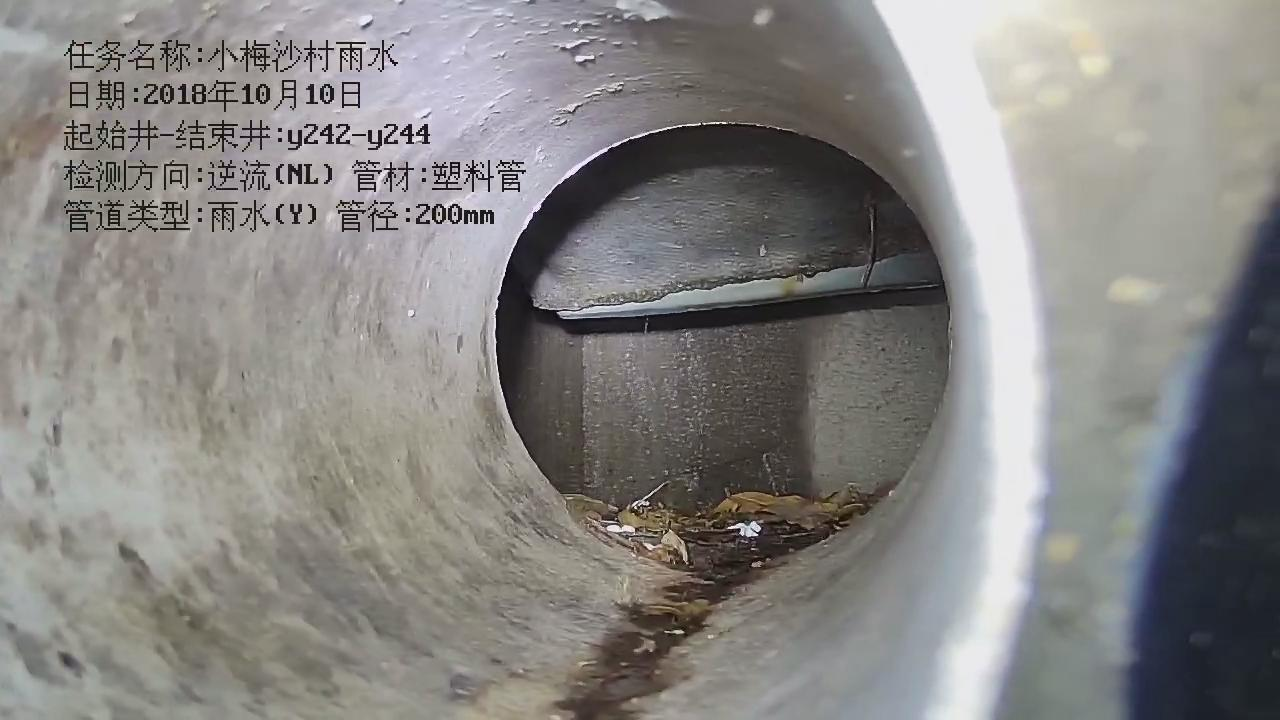YWCR: (521, 124, 941, 318)
